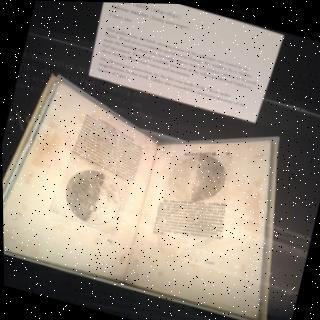book: (1, 62, 314, 320)
